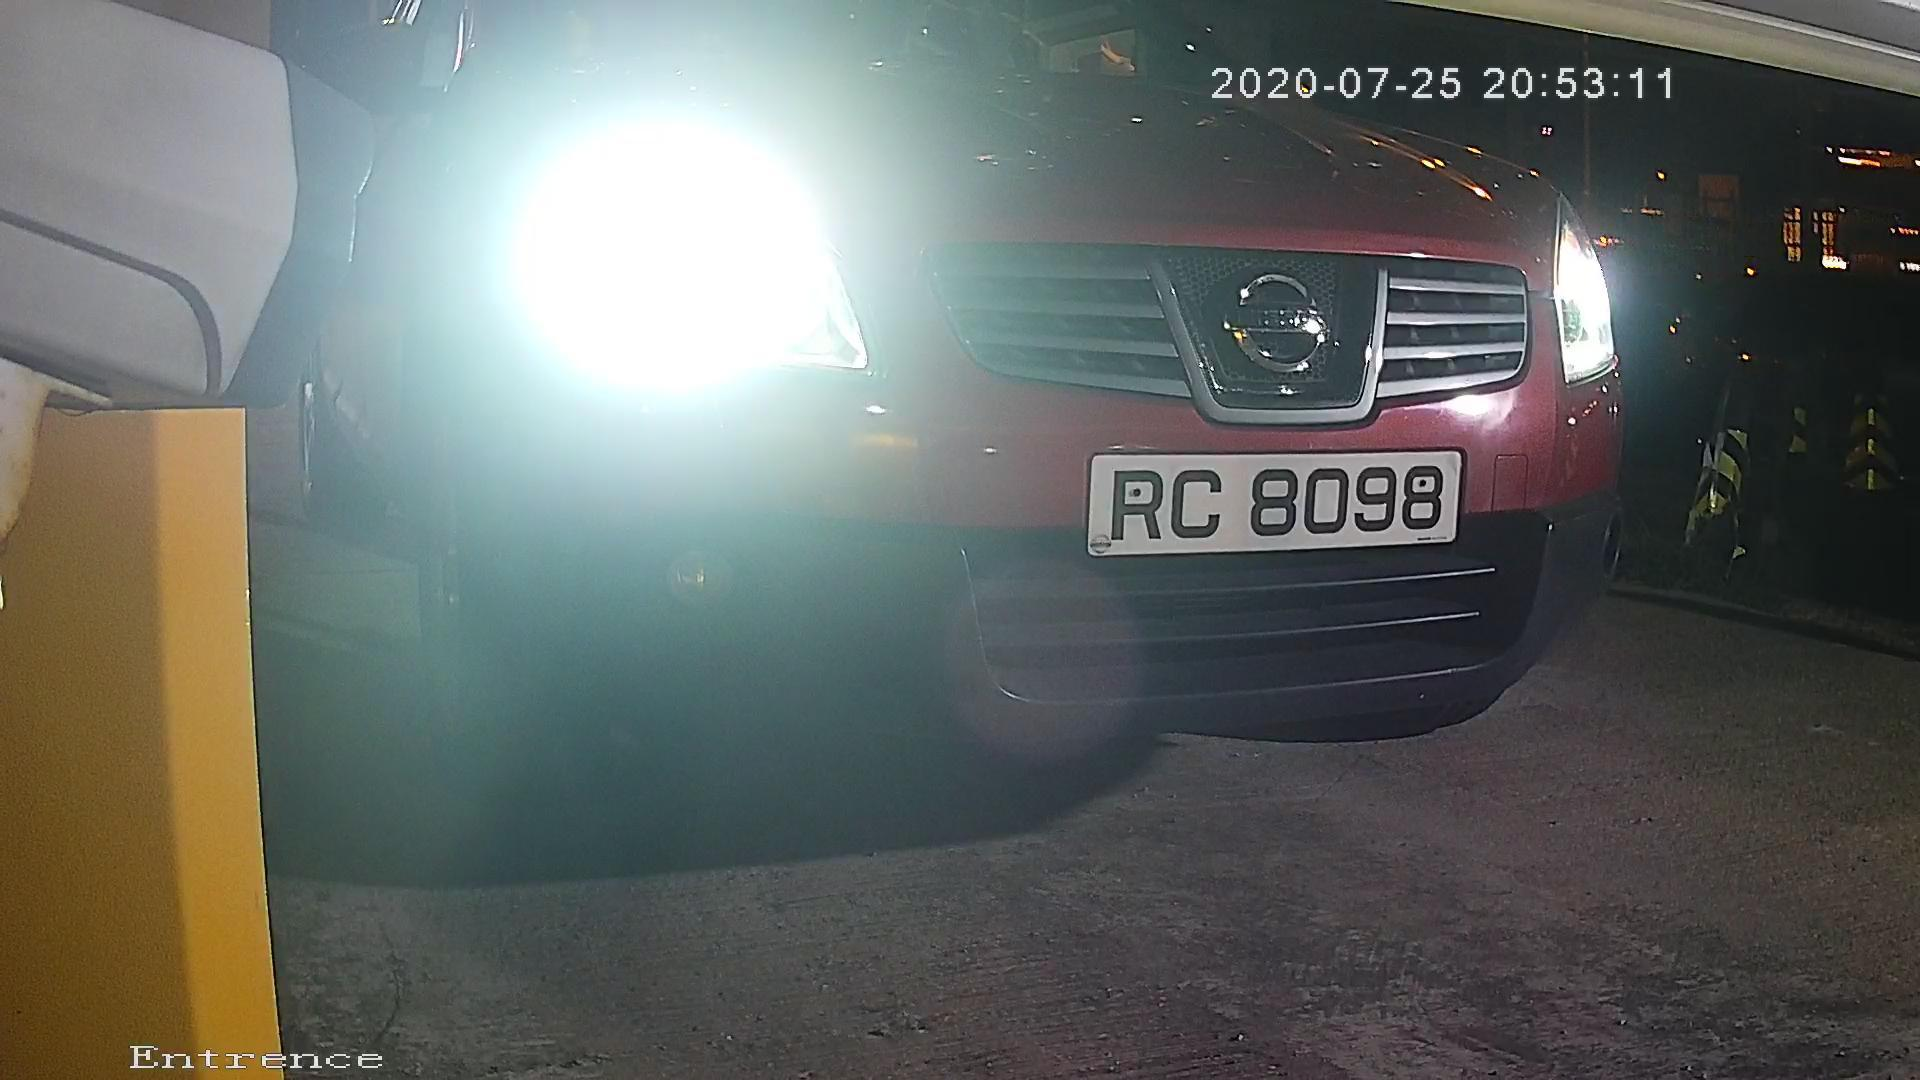privatecar: (319, 3, 1698, 808)
